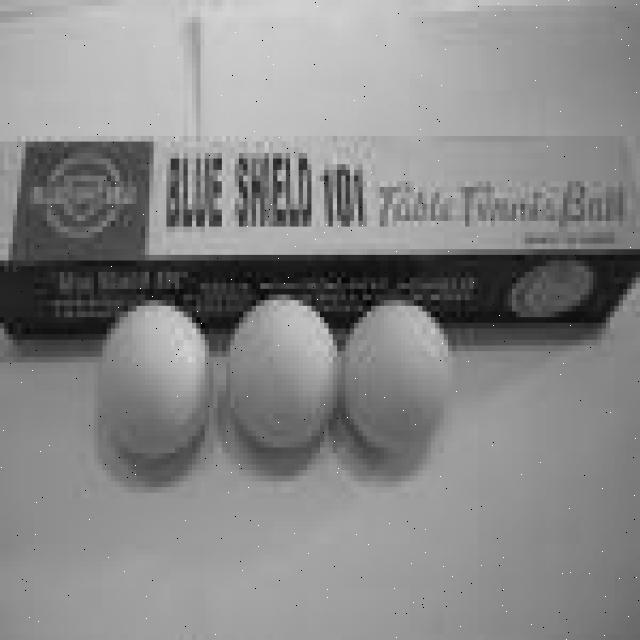ping-pong-ball: (96, 301, 216, 466), (224, 293, 342, 453), (340, 300, 452, 463)
